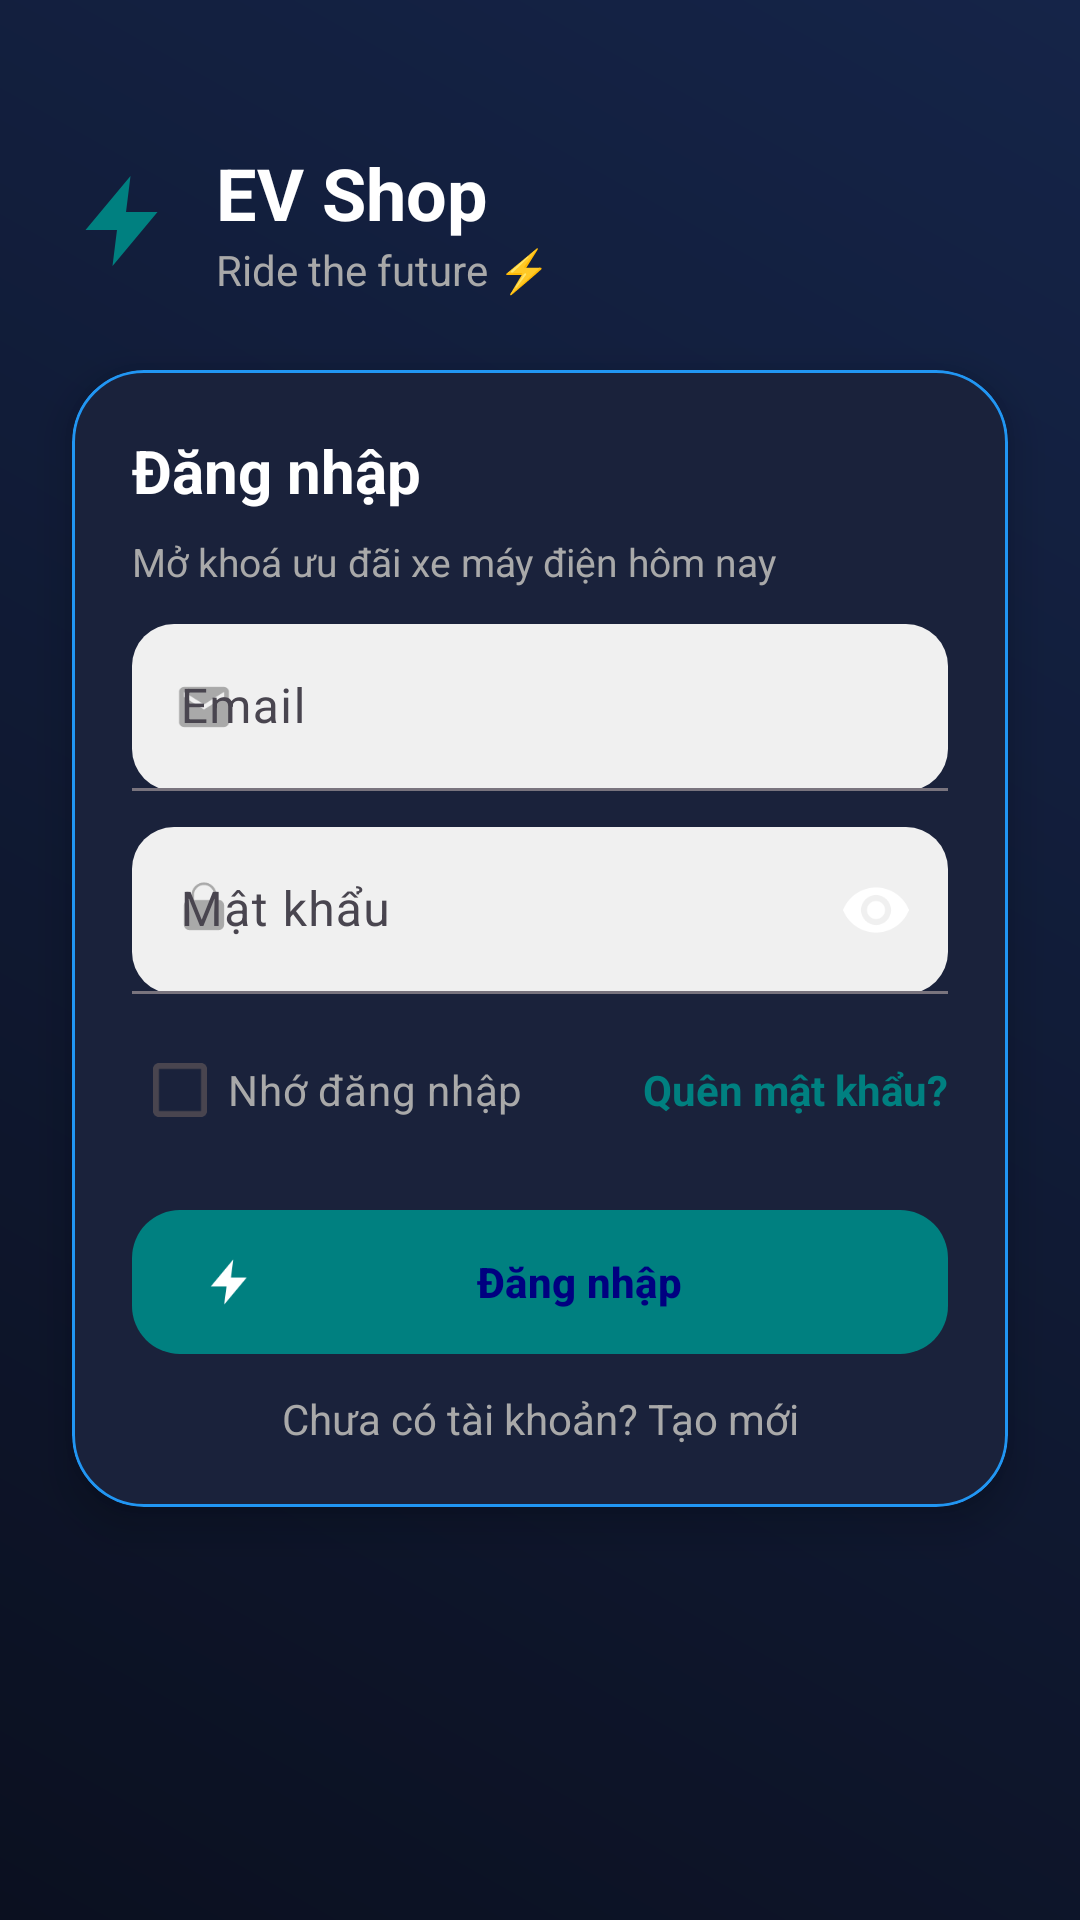

Icons on this 1080 × 1920 Android screen, each with its box as [x1,y1,x2,y2]:
bolt: [86,176,157,266]
